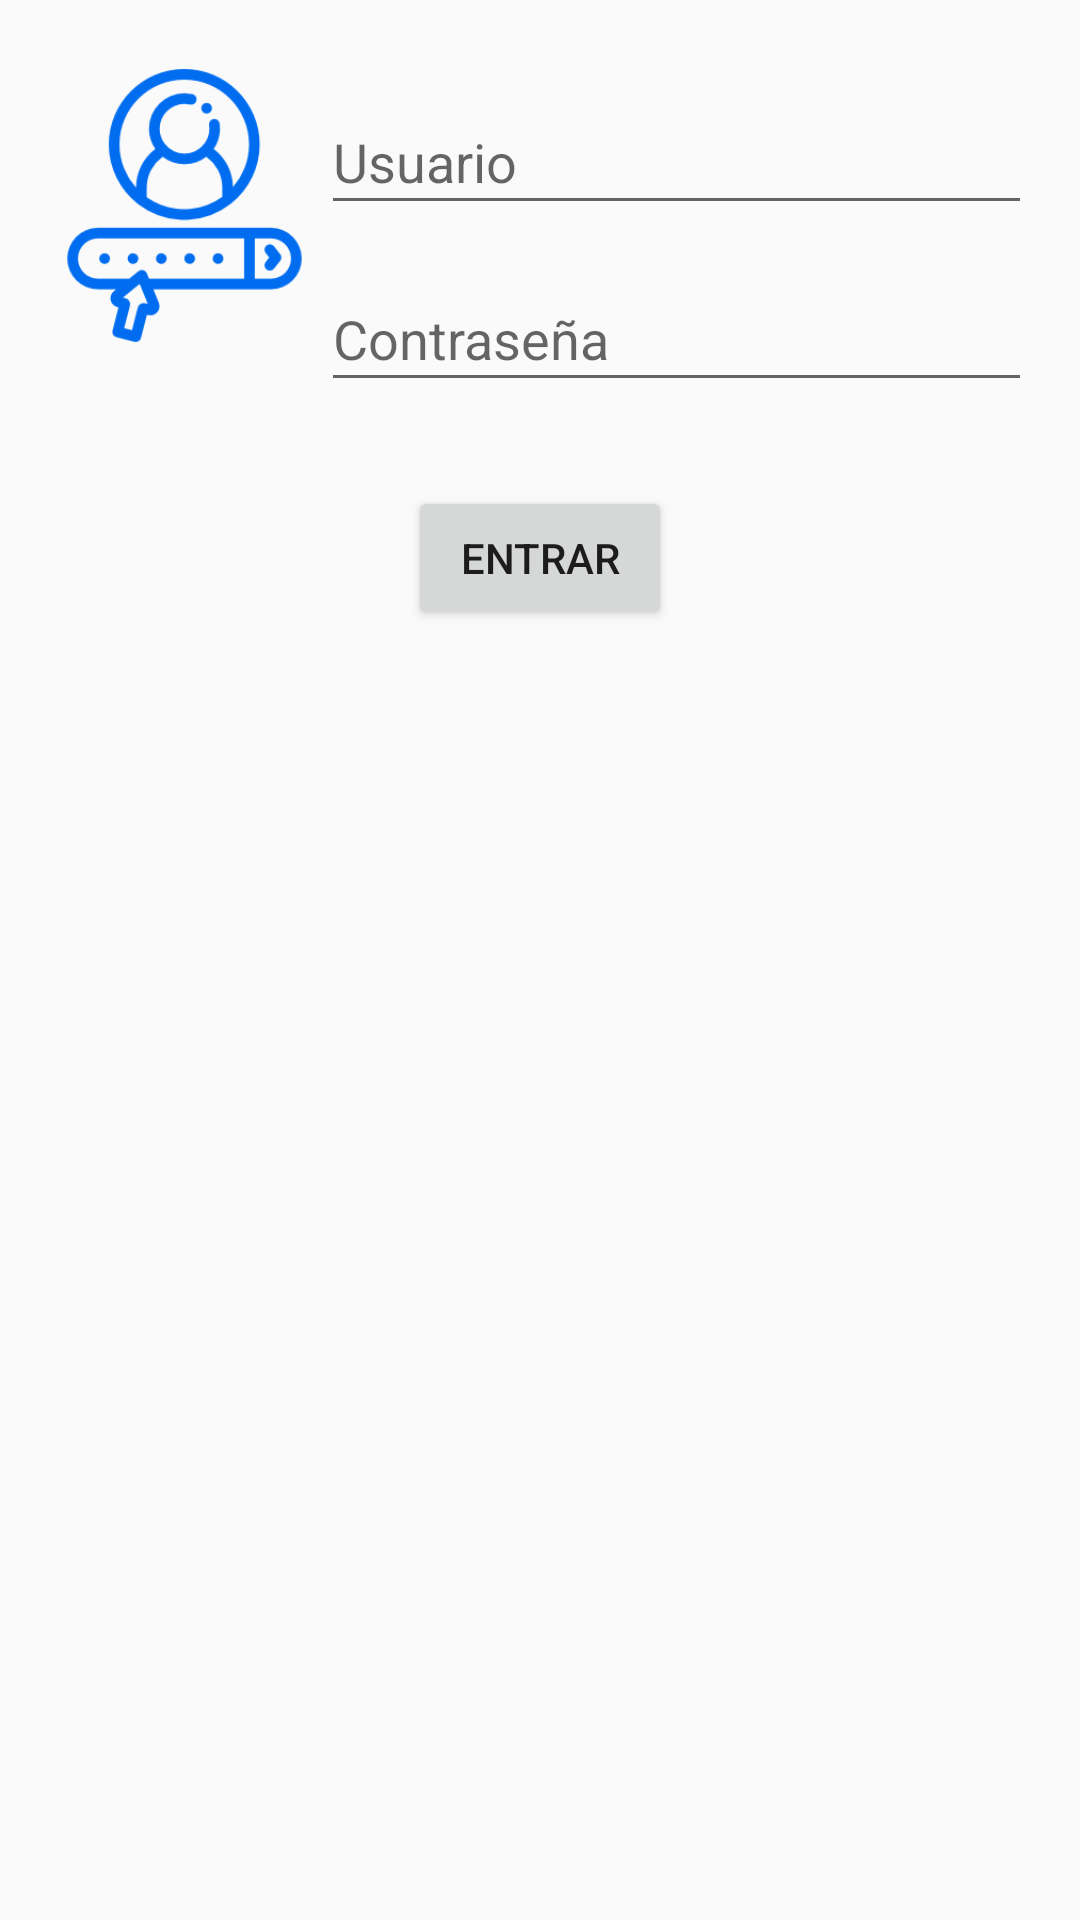

Icon bounding boxes for this 1080×1920 phone screenshot, format BBox(x1, y1, x2, y2):
login: BBox(67, 69, 302, 342)
